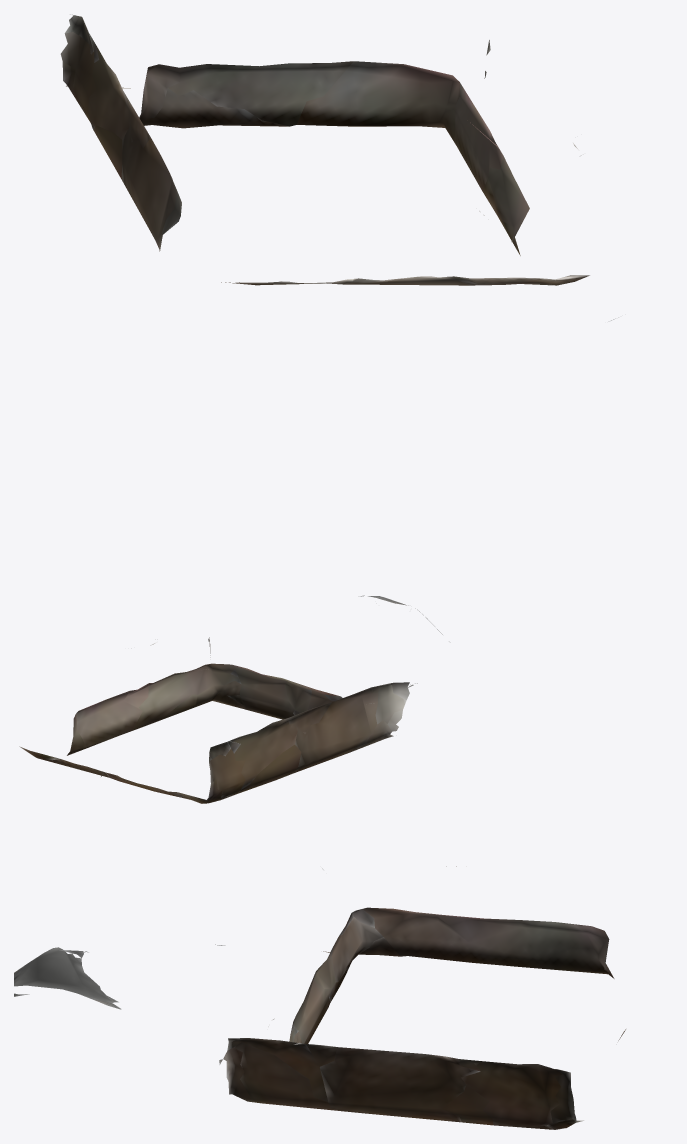
Rendered from hall.glb.
The picture shows the model from 3 angles, top to bottom: view 1: azimuth 30°, elevation 25°; view 2: azimuth 150°, elevation 25°; view 3: azimuth 270°, elevation 25°; orthographic projection. The views are drawn at different scales.
Bounding box in the file's own units: 0.928 × 0.2465 × 0.897.
Materials: 1 (1 with a texture image).
